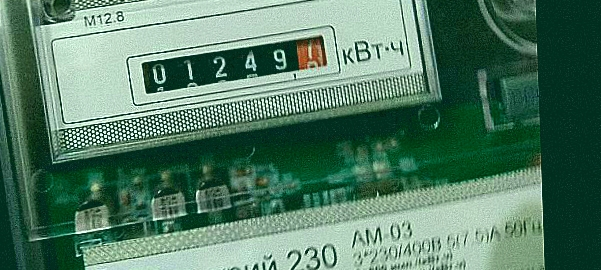0: (148, 58, 168, 84)
1: (180, 56, 196, 81)
2: (210, 53, 231, 79)
4: (242, 46, 260, 73)
7: (301, 36, 317, 60)
9: (270, 45, 289, 70)
screen: (119, 26, 354, 109)
